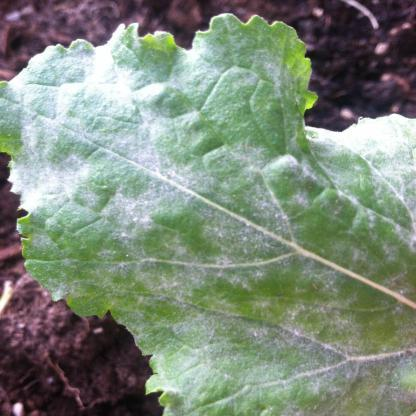Squash Powdery mildew leaf: (0, 12, 416, 416)
